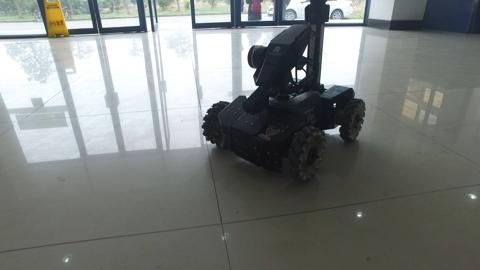car: (266, 1, 355, 24)
chariot: (197, 1, 370, 187)
